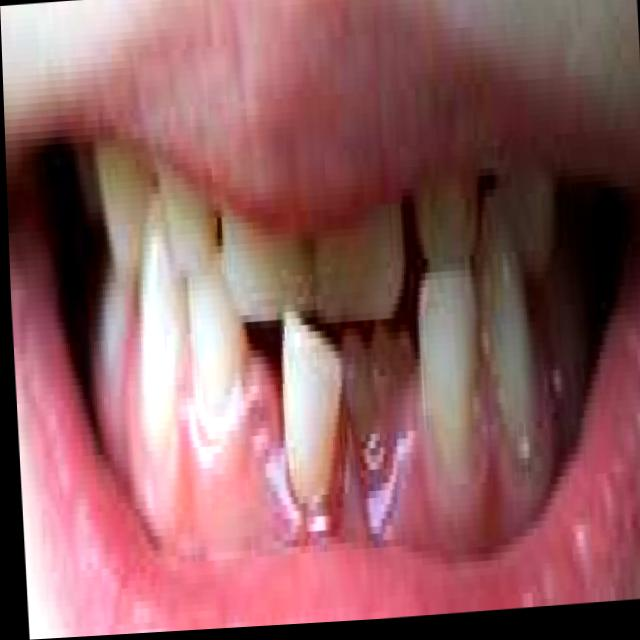hypodontia: (330, 292, 427, 533), (240, 326, 290, 496)
